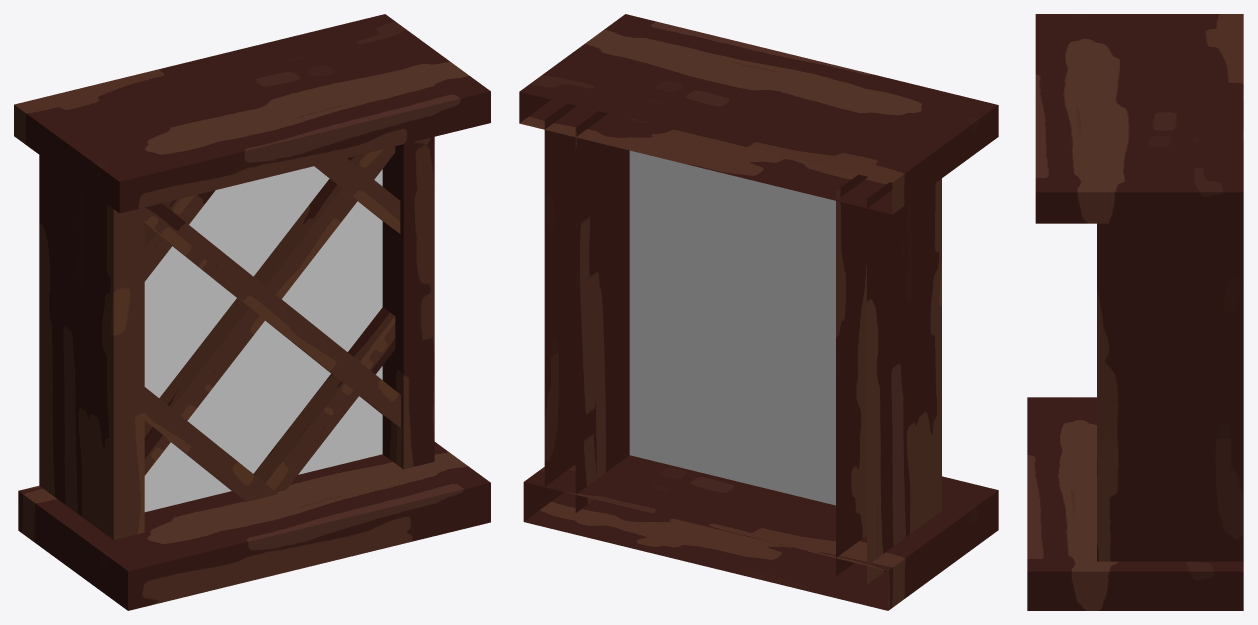
Rendered from SM_BLD_window_v08_03.fbx.
3 views of the same model, side by side, from view 1: azimuth 30°, elevation 25°; view 2: azimuth 150°, elevation 25°; view 3: azimuth 270°, elevation 25° (orthographic). The views are drawn at different scales.
Visible parts, largest first — view 1: SM_BLD_window_v08_03; view 2: SM_BLD_window_v08_03; view 3: SM_BLD_window_v08_03.
Part boxes in pixels (x1,y1,x2,y2): SM_BLD_window_v08_03: (14, 14, 490, 610); SM_BLD_window_v08_03: (519, 14, 998, 610); SM_BLD_window_v08_03: (1027, 14, 1243, 610).
Size of the model in its own units: 78.82 by 86.65 by 40.41.
